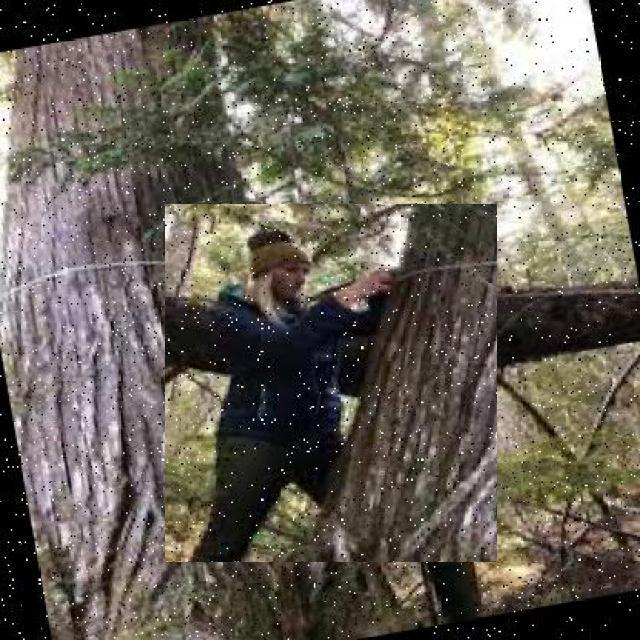poacher: (165, 204, 497, 562)
